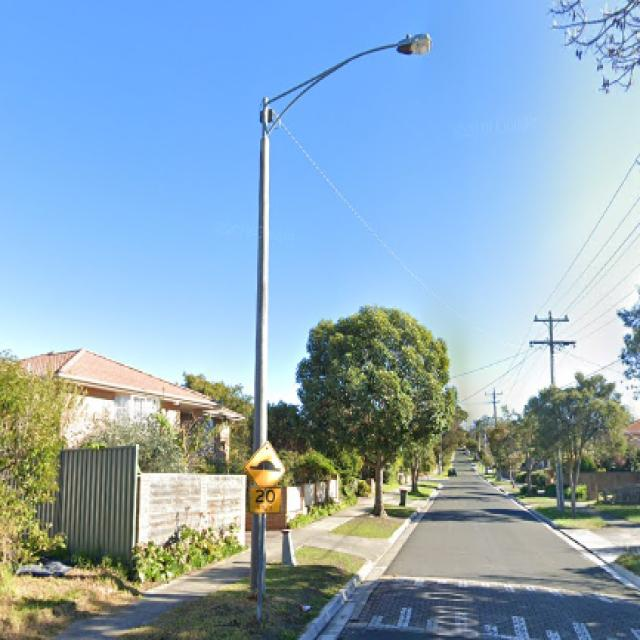concrete-pole: (249, 95, 270, 595), (548, 309, 564, 512), (492, 387, 498, 427)
crossarm: (528, 338, 576, 357), (534, 314, 569, 329), (485, 391, 504, 399), (483, 400, 504, 407)
streetlight: (264, 31, 433, 133)
